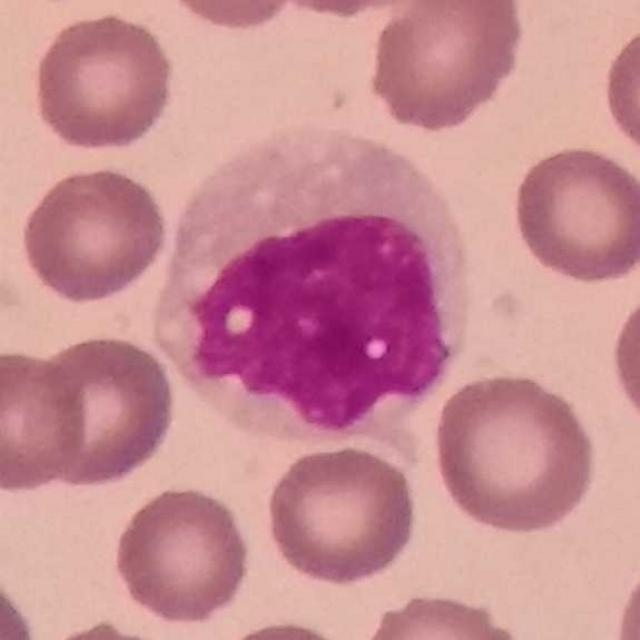mono: (154, 120, 477, 445)
